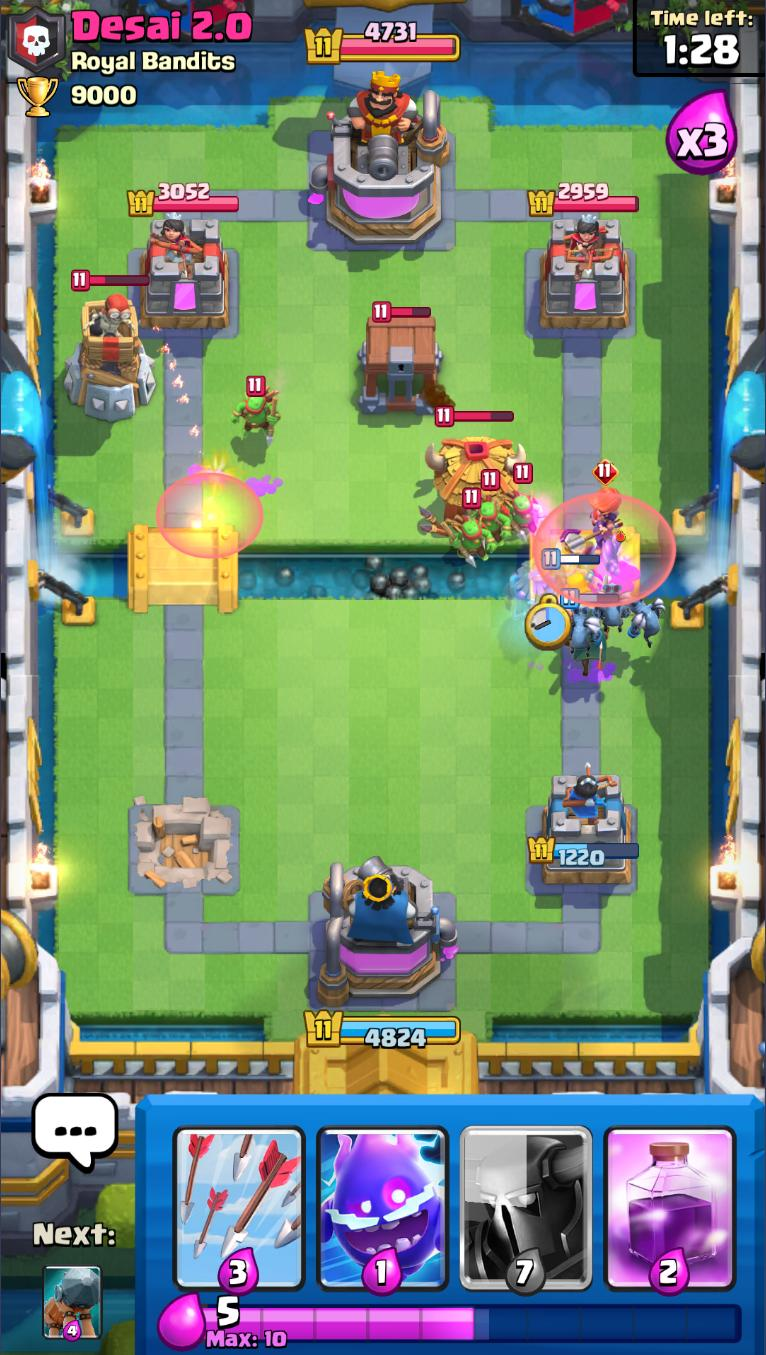ArrowDeck: (165, 1096, 307, 1295)
BattleRamNext: (41, 1263, 101, 1344)
BombTower: (61, 268, 156, 422)
ElectroSpiritDeck: (311, 1097, 454, 1295)
Elixir: (202, 1295, 745, 1352)
EnemyTower: (137, 214, 231, 333), (538, 214, 632, 331)
EvoValkyrie: (564, 459, 625, 562)
GoblinCage: (356, 302, 448, 416)
GoblinHut: (419, 404, 524, 544)
KingTower: (309, 80, 454, 248)
KingTowerHP: (304, 27, 462, 65)
MyBandit: (561, 634, 610, 678)
MyBarbarian: (540, 547, 601, 597)
MyKingHP: (302, 1006, 463, 1051)
MyKingTower: (318, 855, 460, 1009)
MyMinion: (627, 595, 671, 651), (590, 583, 639, 631), (562, 602, 603, 654)
MyPrincessTower: (526, 768, 642, 889)
MyPrincessTowerBrocken: (126, 794, 242, 899)
MyPrincessTowerHP: (527, 835, 642, 867)
MyRoyaleGhost: (508, 555, 561, 624)
PekkaDeck: (454, 1097, 600, 1294)
PrincessTower: (549, 214, 604, 275), (152, 214, 202, 273)
RageDeck: (600, 1097, 744, 1294)
SpearGoblin: (445, 487, 500, 566), (230, 375, 284, 449), (469, 470, 513, 541), (505, 462, 542, 540)
TowerPrincessHP: (127, 180, 241, 217), (527, 181, 640, 216)
